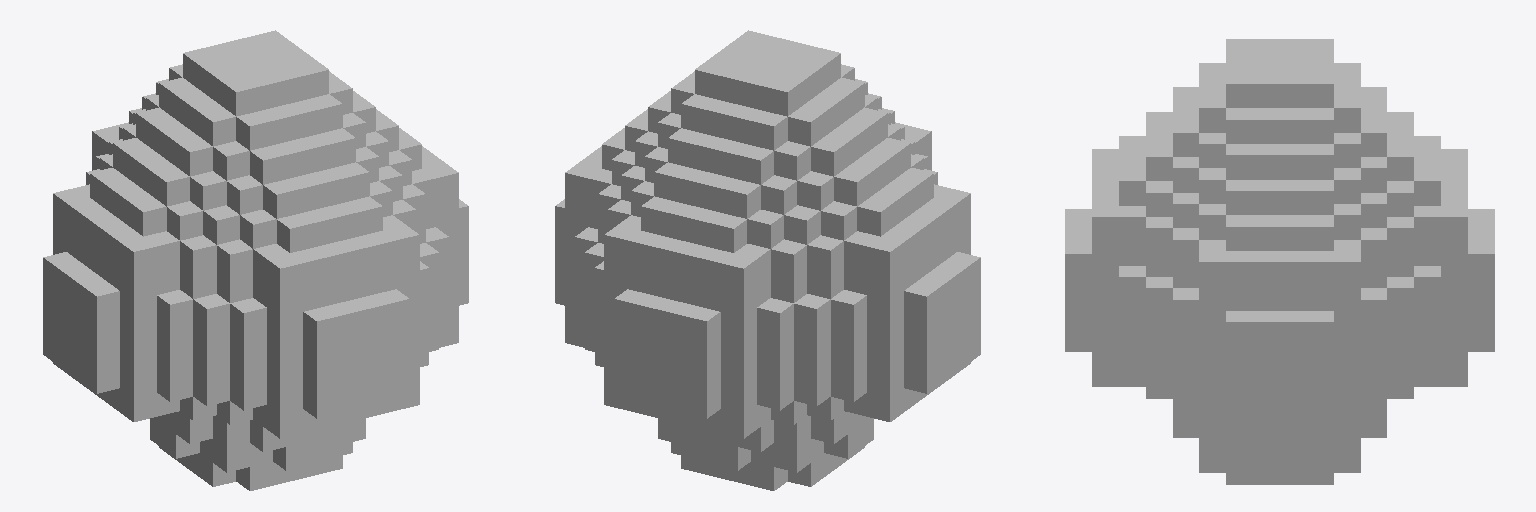
Rendered from mushroom.obj.
3 renders of one model, left to right at view 1: azimuth 30°, elevation 25°; view 2: azimuth 150°, elevation 25°; view 3: azimuth 270°, elevation 25°, orthographic.
Parts seen in each view (by area): view 1: object 1; view 2: object 1; view 3: object 1.
Part boxes in pixels (bbox=[...]): object 1: bbox=[43, 30, 468, 490]; object 1: bbox=[555, 30, 980, 490]; object 1: bbox=[1065, 39, 1494, 484].
Bounding box in the file's own units: 1.6 × 1.6 × 1.6.